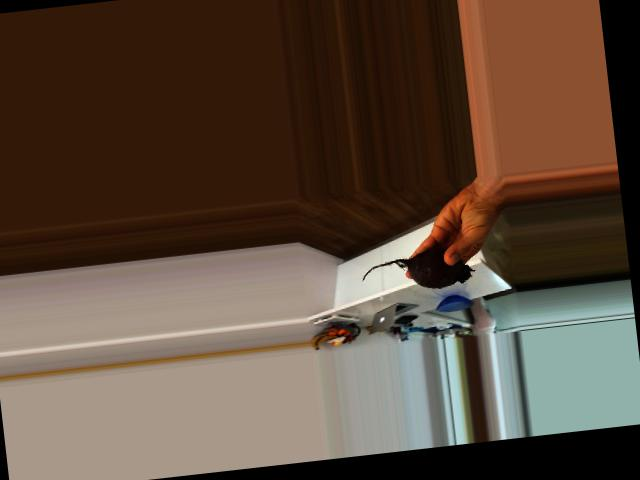beet: (359, 245, 475, 296)
